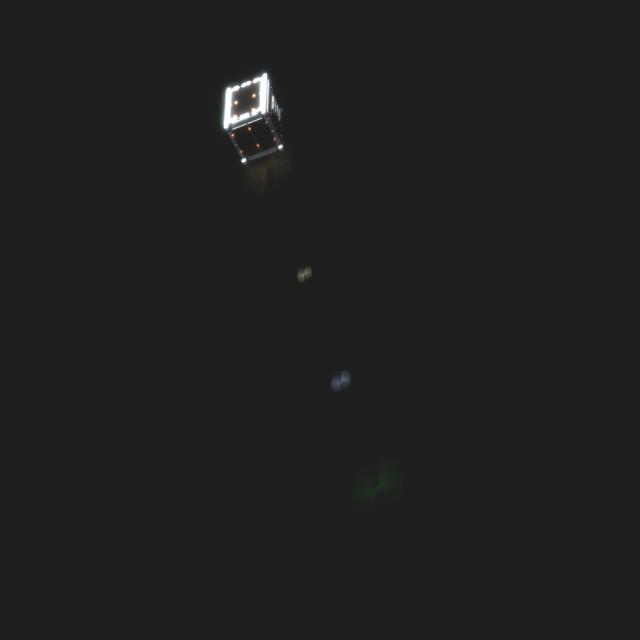medium_debris: (210, 70, 293, 172)
